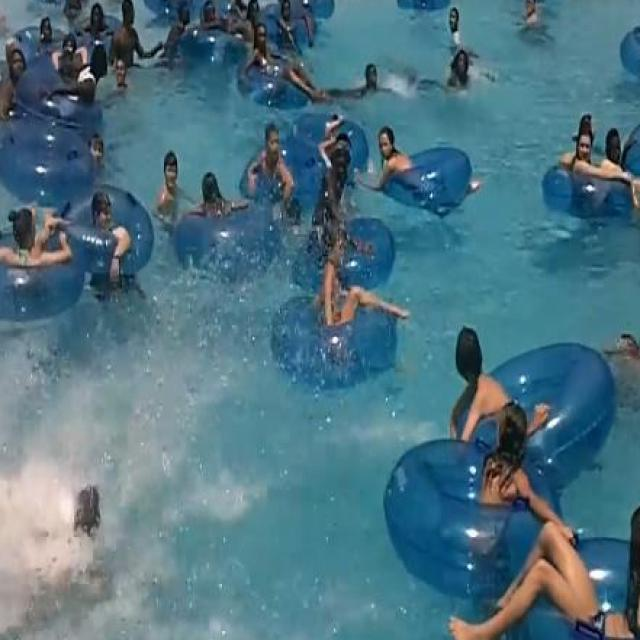Drowning: (28, 469, 119, 634), (601, 325, 640, 390)
Swimming: (428, 322, 513, 424), (367, 120, 464, 201), (307, 232, 380, 333), (481, 400, 544, 508), (77, 188, 142, 286), (237, 29, 318, 99), (1, 202, 70, 279), (318, 156, 372, 249), (244, 115, 294, 204), (551, 134, 629, 186), (332, 56, 402, 103), (431, 49, 496, 98), (306, 109, 356, 168), (154, 146, 191, 224), (199, 169, 240, 224), (508, 0, 564, 40), (73, 133, 115, 170), (442, 5, 474, 51)
